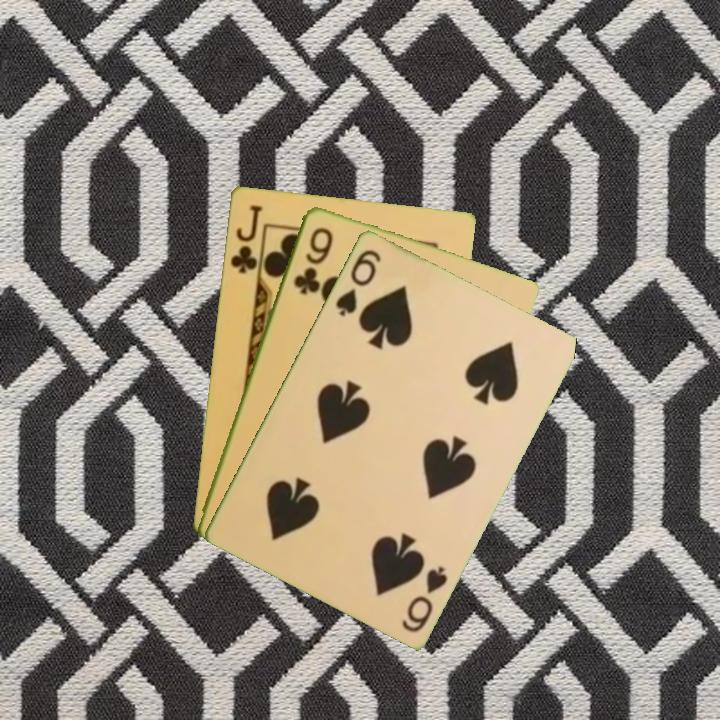6s: (331, 245, 384, 319), (397, 561, 450, 635)
9c: (289, 223, 336, 297)
Jc: (226, 200, 265, 276)
